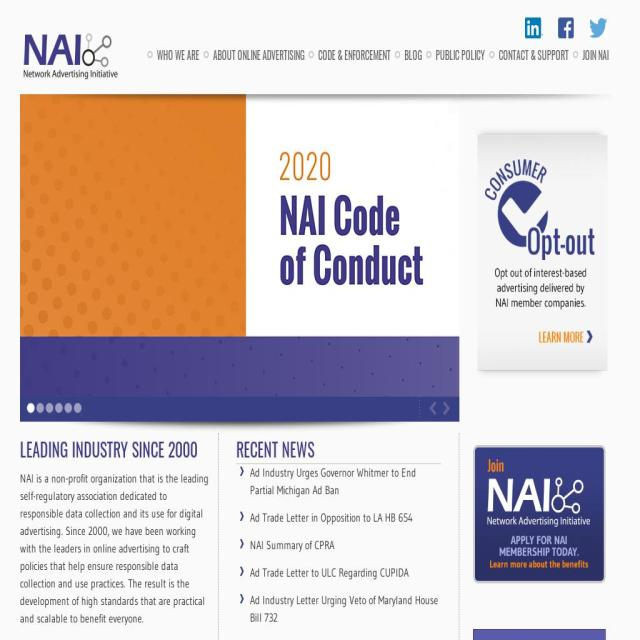button: (20, 27, 121, 84), (202, 42, 304, 60), (308, 42, 390, 60), (488, 42, 569, 60), (425, 42, 485, 60), (146, 42, 200, 60), (572, 42, 609, 60), (394, 42, 422, 60), (27, 402, 35, 413), (36, 402, 44, 413), (46, 402, 54, 413), (55, 402, 63, 413), (64, 402, 72, 413), (74, 402, 82, 413)
heading: (236, 438, 441, 458), (20, 438, 209, 458), (235, 636, 266, 640)
image: (20, 94, 459, 397), (459, 94, 640, 397), (473, 125, 613, 416), (473, 445, 606, 583), (20, 94, 620, 105), (0, 94, 20, 397), (20, 27, 121, 84), (473, 629, 606, 640), (588, 17, 608, 38), (525, 17, 543, 38), (558, 17, 574, 38)
link: (250, 593, 438, 625), (249, 465, 416, 497), (249, 510, 413, 525), (249, 565, 409, 580), (250, 538, 334, 552)
text: (20, 470, 209, 628)
